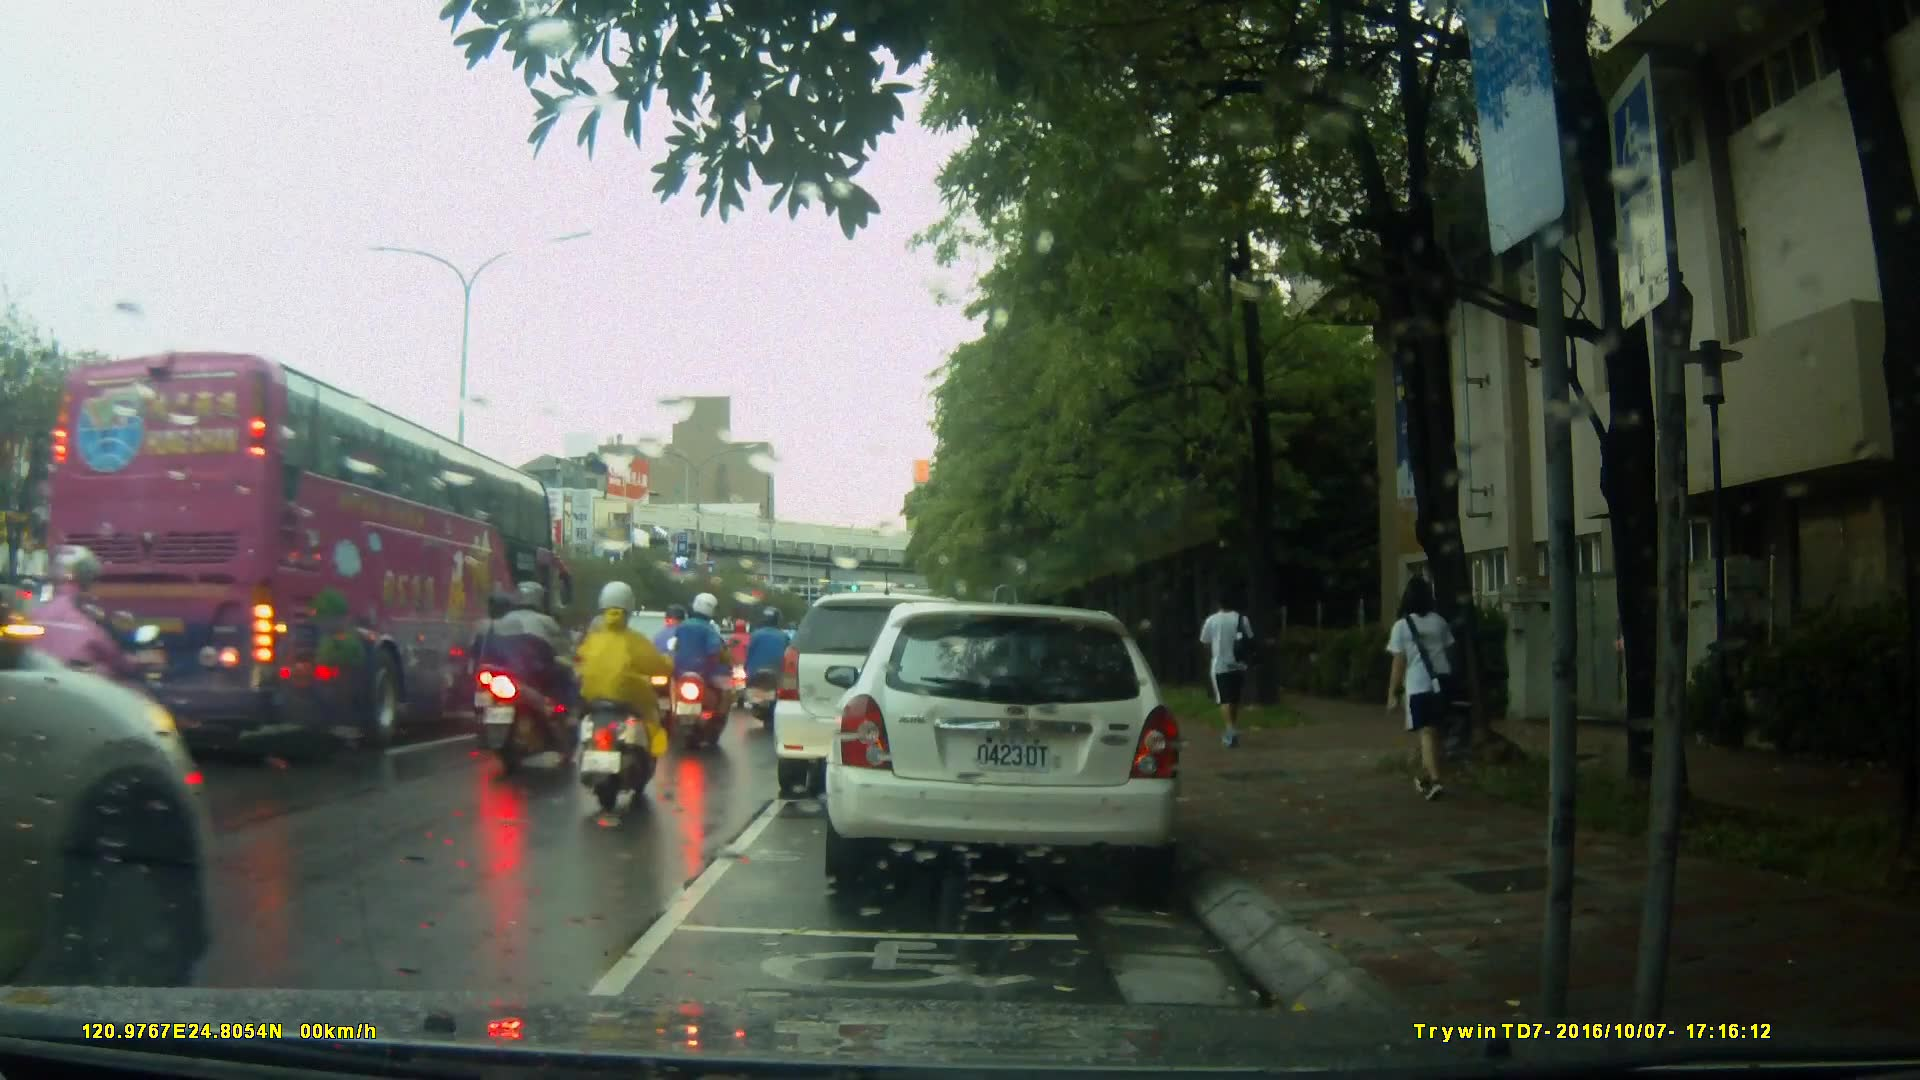pedestrian: (1374, 573, 1461, 808), (1186, 580, 1252, 753)
rider: (5, 538, 160, 859), (580, 582, 671, 818), (488, 576, 584, 774), (668, 588, 732, 768), (467, 591, 536, 754), (741, 605, 805, 737), (653, 598, 702, 727), (722, 617, 763, 698)
vehicle: (25, 347, 555, 746), (835, 594, 1194, 898), (776, 590, 1026, 784), (570, 608, 722, 735)
